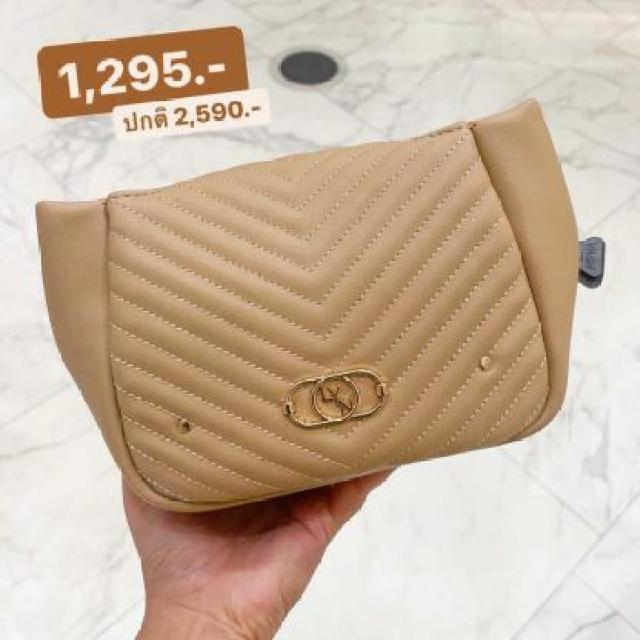Bag: (12, 67, 610, 538)
